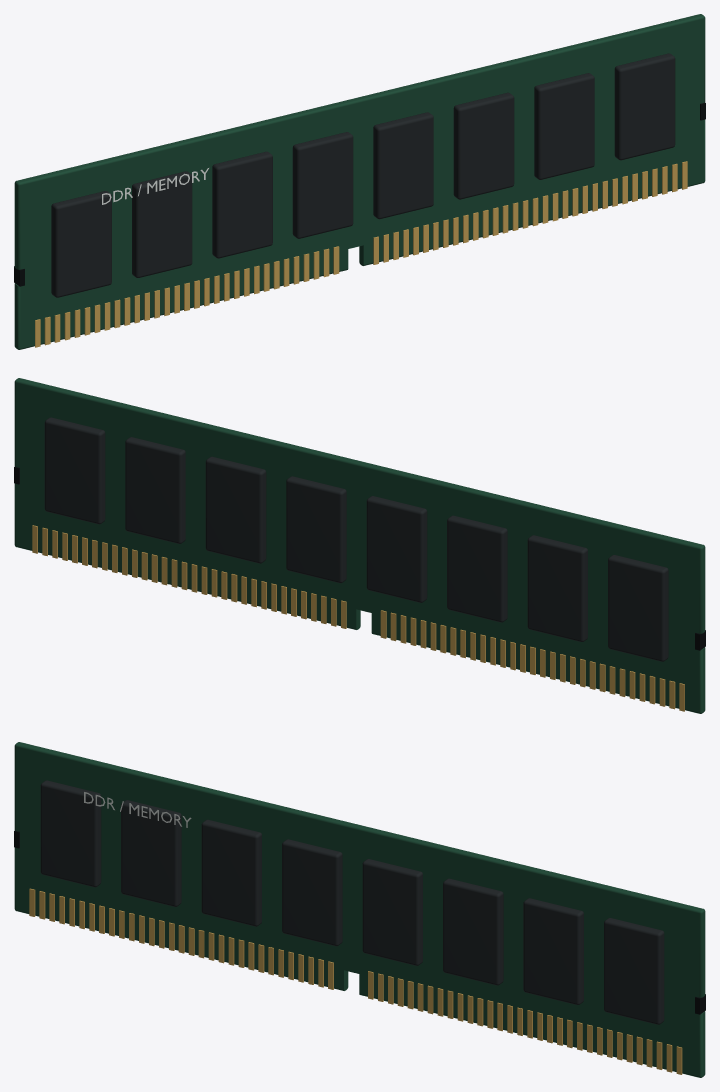
File: ram.glb
3 views of the same model, one above another, from view 1: azimuth 30°, elevation 25°; view 2: azimuth 150°, elevation 25°; view 3: azimuth 330°, elevation 25° (orthographic).
Visible parts, largest first — view 1: DIMM PCB, RAM_UDIMM / Fine moulded ABS, RAM_UDIMM / Gold plated connector contacts, Print DDR / MEMORY mesh; view 2: DIMM PCB, RAM_UDIMM / Fine moulded ABS, RAM_UDIMM / Gold plated connector contacts; view 3: DIMM PCB, RAM_UDIMM / Fine moulded ABS, RAM_UDIMM / Gold plated connector contacts, Print DDR / MEMORY mesh.
Boxes of the visible parts, <box> form: DIMM PCB: <box>14,14,705,349</box>; RAM_UDIMM / Fine moulded ABS: <box>51,53,675,297</box>; RAM_UDIMM / Gold plated connector contacts: <box>35,161,687,347</box>; Print DDR / MEMORY mesh: <box>102,168,208,204</box>; DIMM PCB: <box>14,378,705,713</box>; RAM_UDIMM / Fine moulded ABS: <box>44,417,668,661</box>; RAM_UDIMM / Gold plated connector contacts: <box>32,525,684,711</box>; DIMM PCB: <box>14,742,705,1077</box>; RAM_UDIMM / Fine moulded ABS: <box>40,780,664,1024</box>; RAM_UDIMM / Gold plated connector contacts: <box>29,888,682,1074</box>; Print DDR / MEMORY mesh: <box>84,792,191,827</box>.
Bounding box in the file's own units: 0.1333 × 0.031 × 0.0058.
